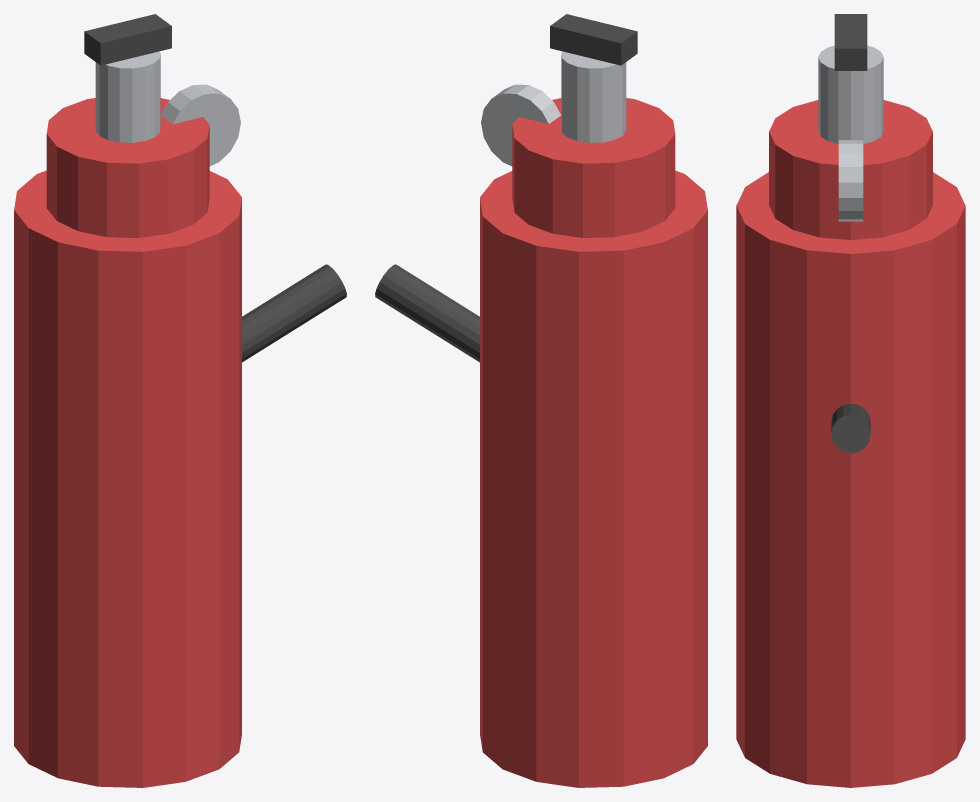
File: FireExtinguisher.fbx
3 views of the same model, side by side, from view 1: azimuth 30°, elevation 25°; view 2: azimuth 150°, elevation 25°; view 3: azimuth 270°, elevation 25° (orthographic).
Visible parts, largest first — view 1: FireExtinguisher; view 2: FireExtinguisher; view 3: FireExtinguisher.
Part boxes in pixels (x1=…): FireExtinguisher: x1=14, y1=14, x2=346, y2=787; FireExtinguisher: x1=375, y1=14, x2=707, y2=787; FireExtinguisher: x1=736, y1=14, x2=965, y2=787.
Size of the model in its own units: 21.99 by 47.75 by 14.
